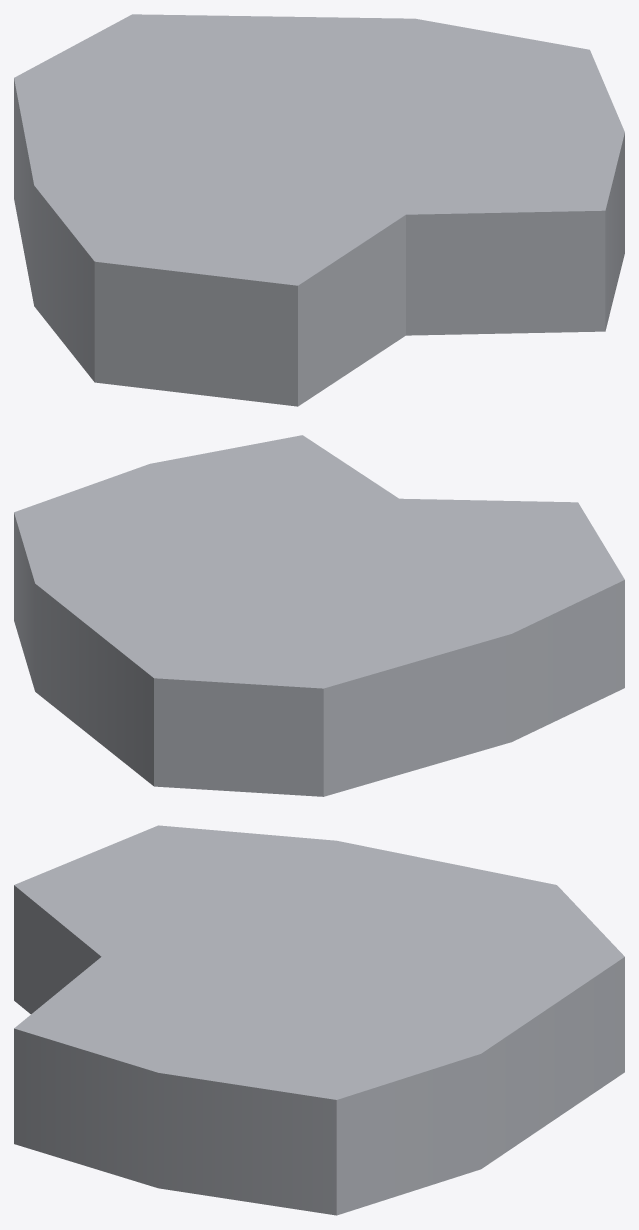
The model's file is Rock_F.fbx.
3 renders of one model, top to bottom at view 1: azimuth 30°, elevation 25°; view 2: azimuth 150°, elevation 25°; view 3: azimuth 270°, elevation 25°, orthographic. The views are drawn at different scales.
Visible parts, largest first — view 1: Rock_F; view 2: Rock_F; view 3: Rock_F.
Part boxes in pixels (bbox=[...]): Rock_F: bbox=[14, 14, 624, 406]; Rock_F: bbox=[14, 435, 624, 796]; Rock_F: bbox=[14, 825, 624, 1215].
Bounding box in the file's own units: 112 × 22.04 × 106.
